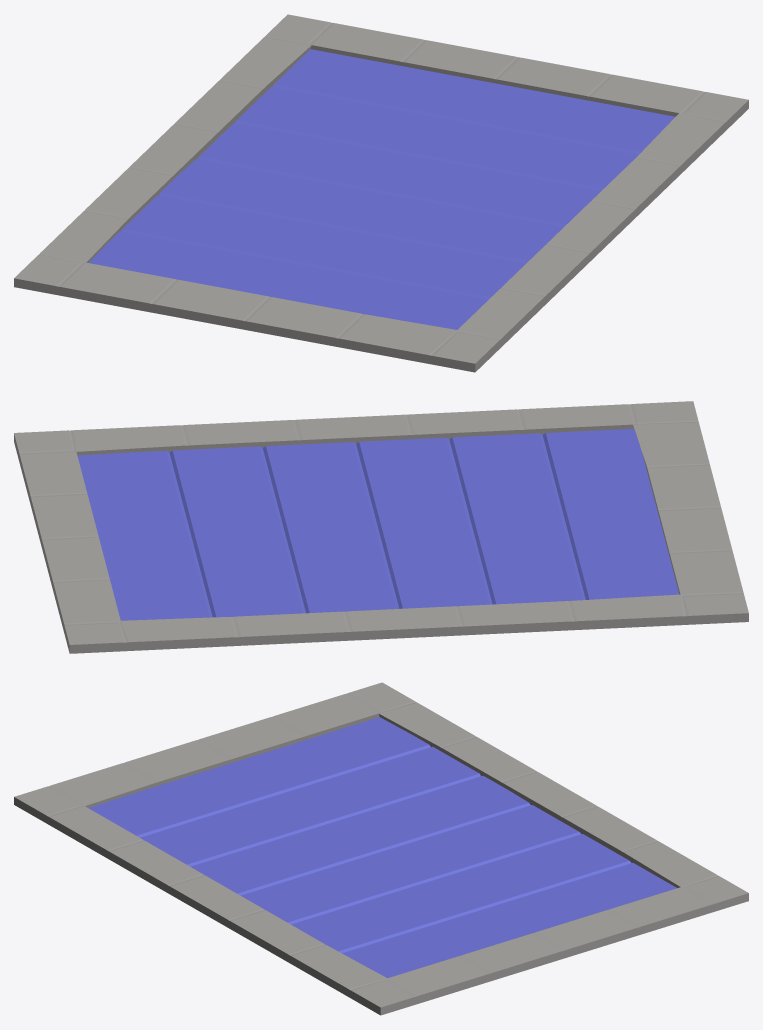
Rendered from coveredpool.fbx.
The picture shows the model from 3 angles, top to bottom: view 1: azimuth 30°, elevation 25°; view 2: azimuth 150°, elevation 25°; view 3: azimuth 270°, elevation 25°; orthographic projection. The views are drawn at different scales.
Visible parts, largest first — view 1: pool covered; view 2: pool covered; view 3: pool covered.
Boxes of the visible parts, x1=… form: pool covered: x1=14, y1=14, x2=748, y2=372; pool covered: x1=14, y1=401, x2=748, y2=653; pool covered: x1=14, y1=682, x2=748, y2=1015.
Bounding box in the file's own units: 2975 × 34.17 × 2842.
